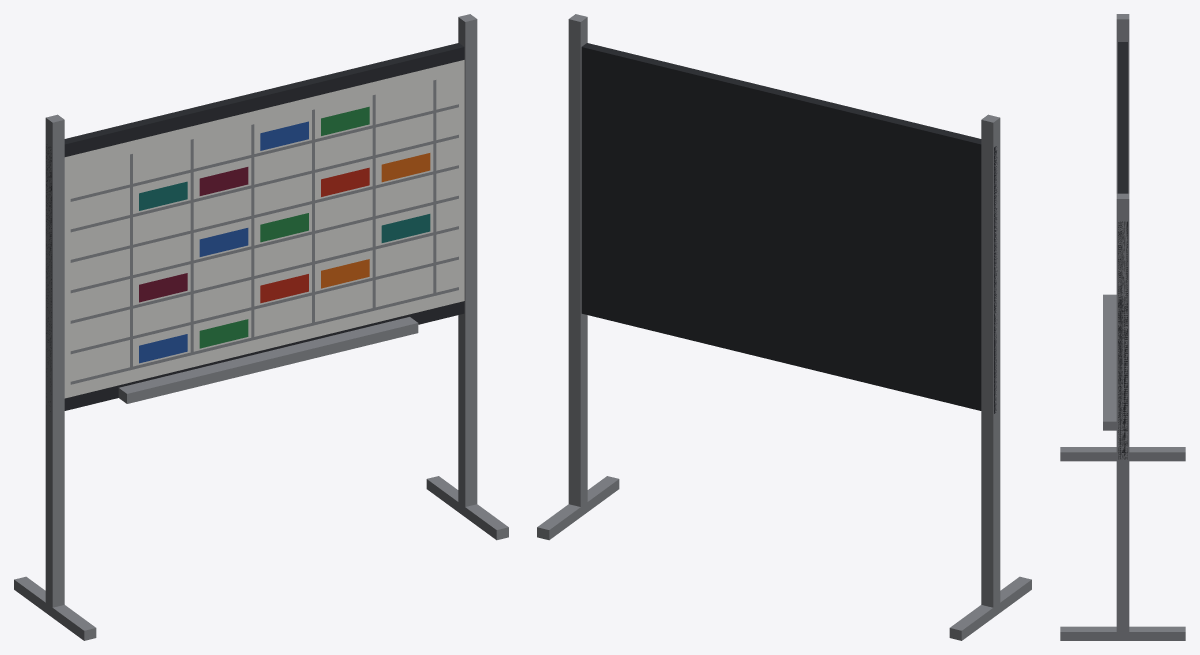
File: prop_rota-board.glb
3 renders of one model, left to right at view 1: azimuth 30°, elevation 25°; view 2: azimuth 150°, elevation 25°; view 3: azimuth 270°, elevation 25°, orthographic. The views are drawn at different scales.
Parts seen in each view (by area): view 1: body; view 2: body; view 3: body.
Part boxes in pixels (bbox=[...]): body: bbox=[14, 14, 508, 640]; body: bbox=[537, 14, 1031, 640]; body: bbox=[1060, 14, 1185, 640].
Size of the model in its own units: 1.75 by 1.95 by 0.5.
